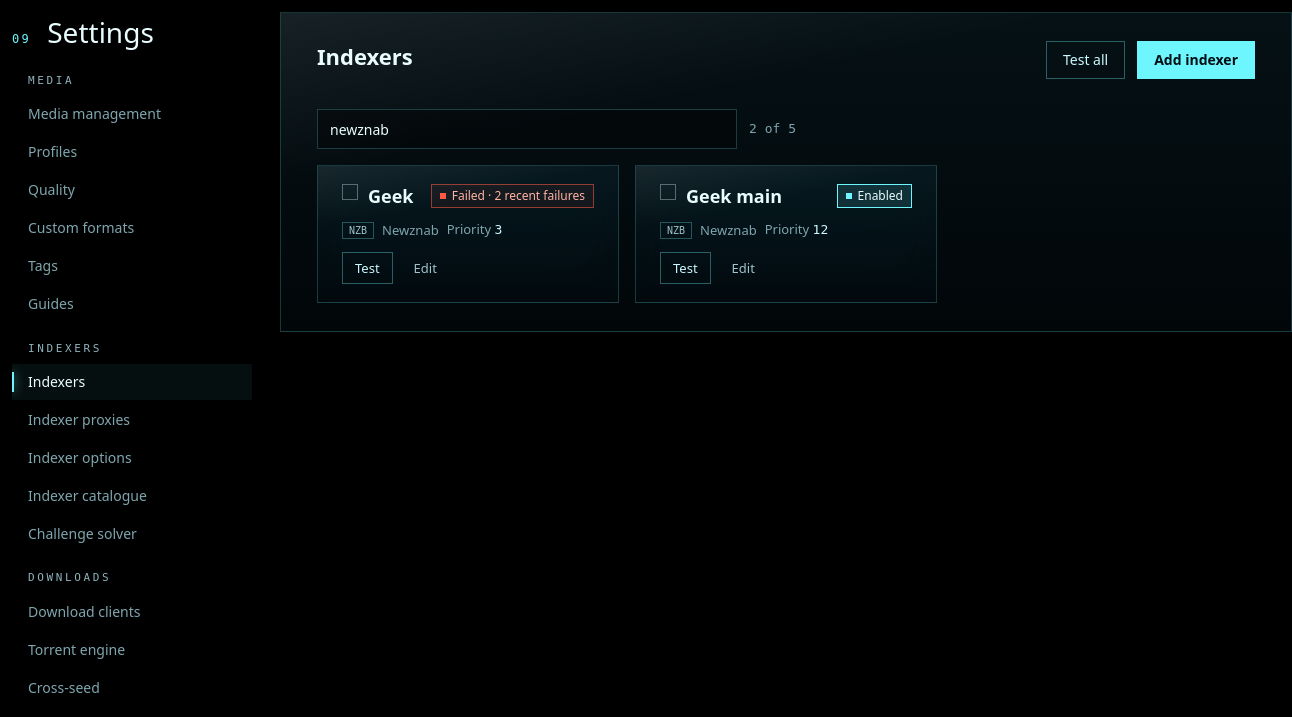
indexer cards › searches the cards by name, implementation, protocol, tag and status with "N of M"
The image size is (1292, 717).
Check: the text "2 of 5" is shown, box [749,120,796,138]
Replace the text in the search field named "Search this list" with "anime only" at coordinates (527, 129), box [317,109,737,149]
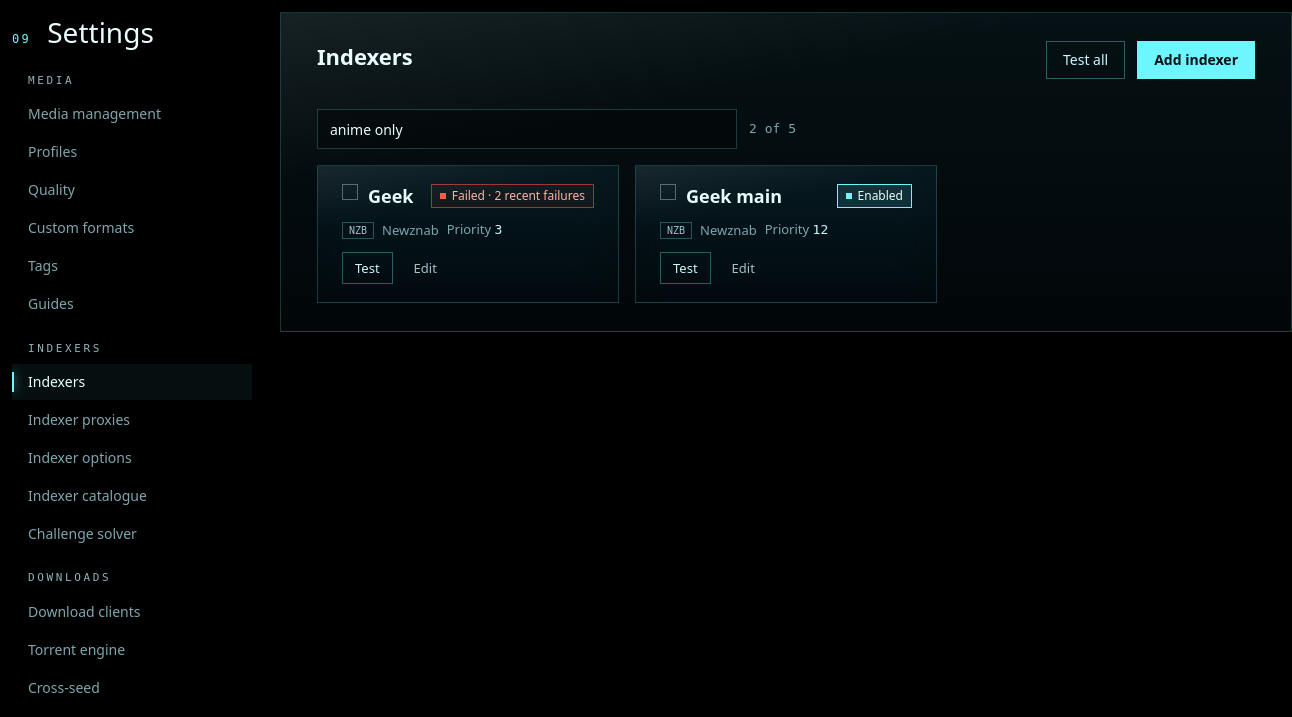
Press Enter in the search field named "Search this list", box [317,109,737,149]
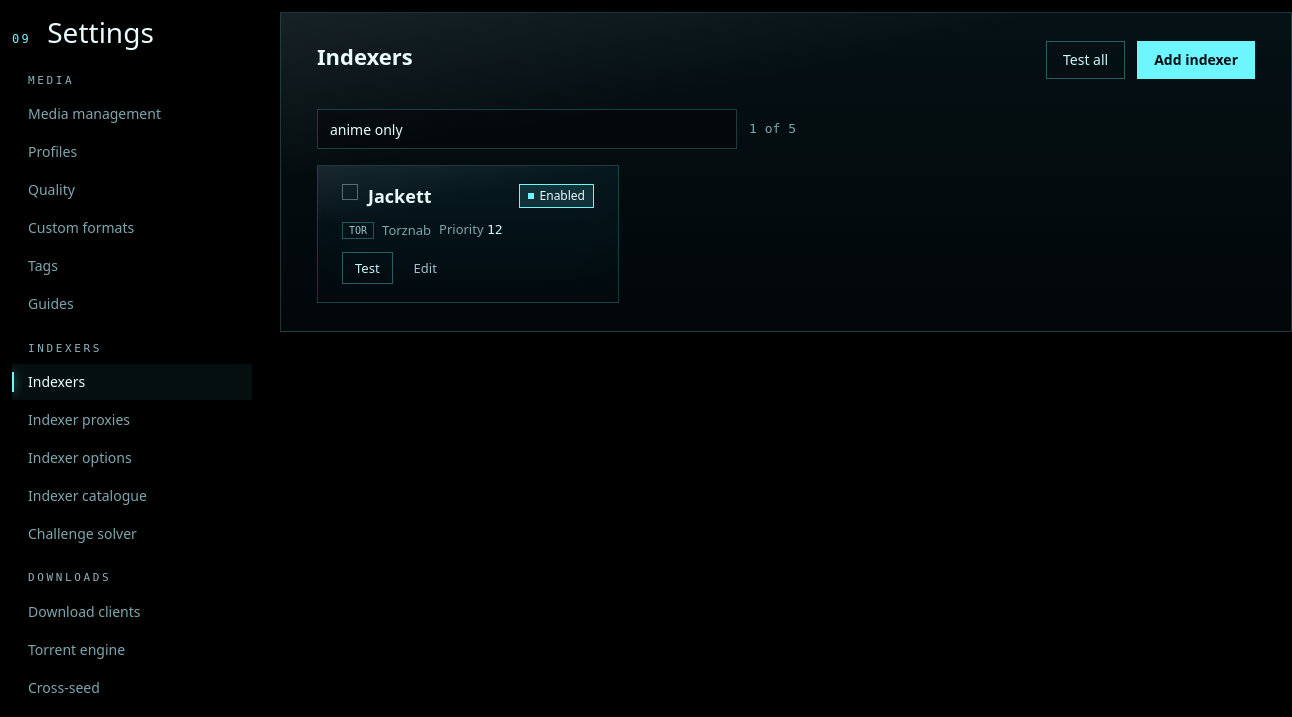
Replace the text in the search field named "Search this list" with "failed usenet" at coordinates (527, 129), box [317,109,737,149]
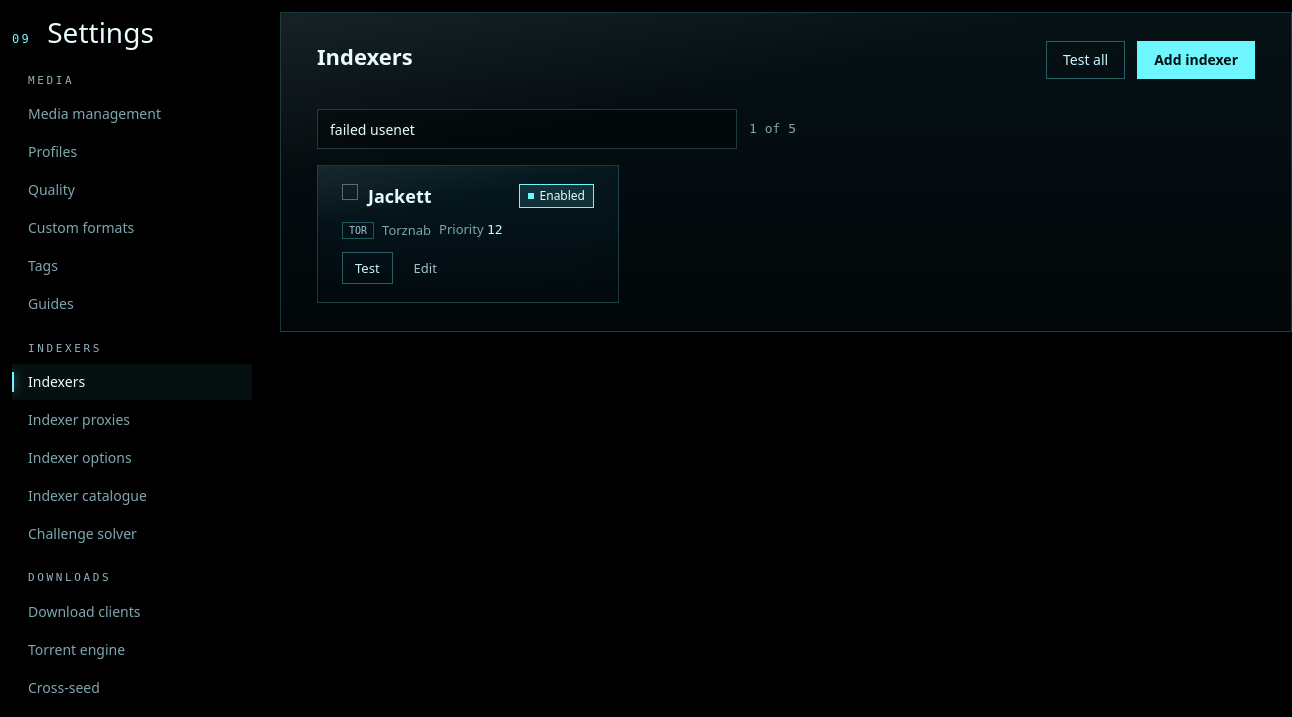
Press Enter in the search field named "Search this list", box [317,109,737,149]
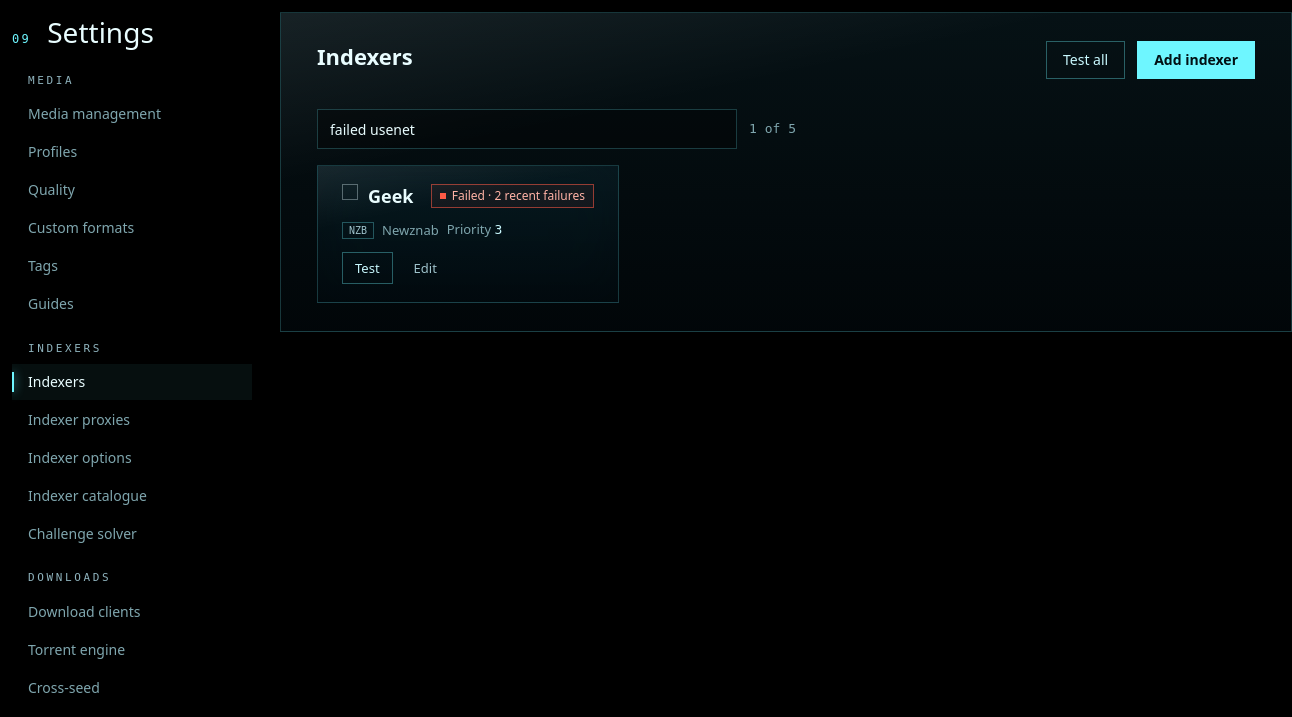
Check: the text "1 of 5" is shown, box [749,120,796,138]
Check: the button "Geek" is shown, box [368,184,421,208]
